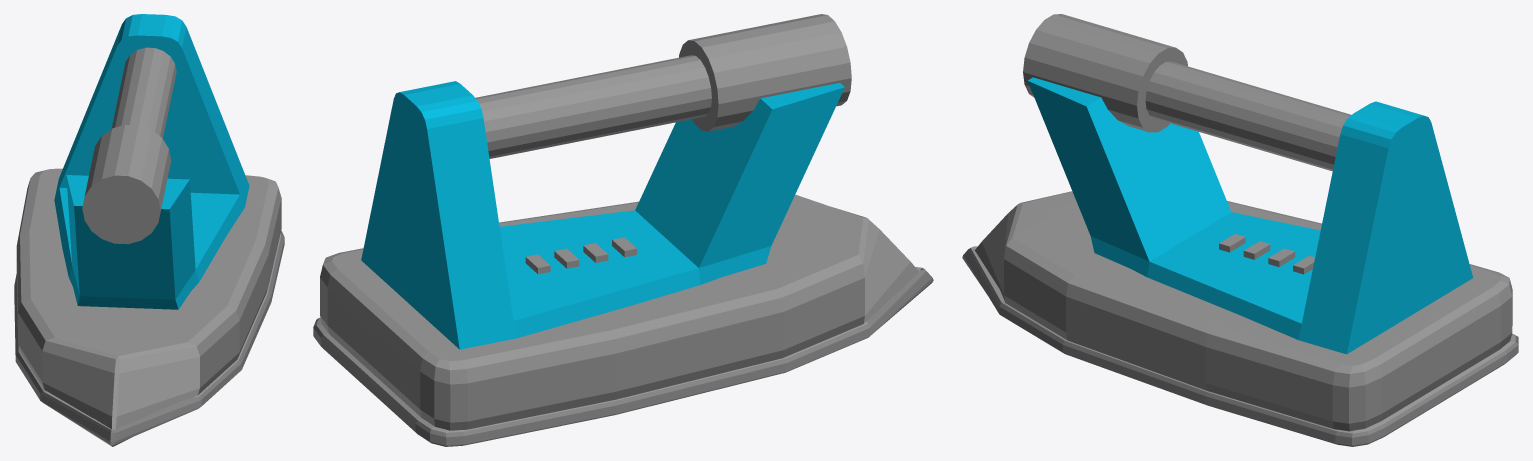
Rendered from Clothes iron.obj.
3 views of the same model, side by side, from view 1: azimuth 30°, elevation 25°; view 2: azimuth 150°, elevation 25°; view 3: azimuth 270°, elevation 25° (orthographic). The views are drawn at different scales.
Visible parts, largest first — view 1: Box001, Box002, Cylinder001, Box003; view 2: Box002, Box001, Cylinder001, Box003; view 3: Box002, Box001, Cylinder001, Box003.
Boxes of the visible parts, bbox=[...] form: Box001: bbox=[16, 168, 281, 429]; Box002: bbox=[54, 14, 249, 309]; Cylinder001: bbox=[82, 47, 176, 244]; Box003: bbox=[14, 231, 284, 446]; Box002: bbox=[361, 81, 844, 349]; Box001: bbox=[320, 194, 918, 430]; Cylinder001: bbox=[475, 14, 851, 158]; Box003: bbox=[313, 267, 933, 446]; Box002: bbox=[1028, 77, 1473, 354]; Box001: bbox=[975, 191, 1512, 431]; Cylinder001: bbox=[1023, 14, 1351, 171]; Box003: bbox=[962, 246, 1518, 446].
Size of the model in its own units: 2708909 by 1739094 by 3254214.
